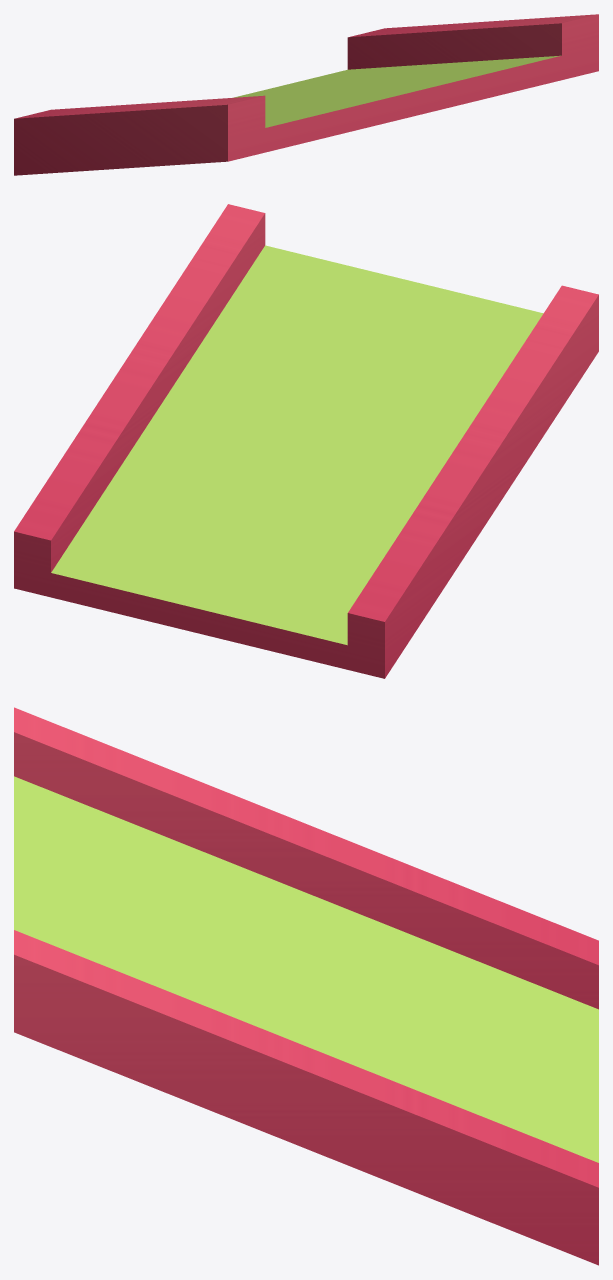
The model's file is ramp-c.gltf.
3 views of the same model, one above another, from view 1: azimuth 30°, elevation 25°; view 2: azimuth 150°, elevation 25°; view 3: azimuth 270°, elevation 25° (orthographic). The views are drawn at different scales.
Parts seen in each view (by area): view 1: ramp-c; view 2: ramp-c; view 3: ramp-c.
Part boxes in pixels (x1,y1,x2,y2): ramp-c: (14, 14, 598, 175); ramp-c: (14, 204, 598, 678); ramp-c: (14, 707, 598, 1265).
Bounding box in the file's own units: 0.9999 × 0.5866 × 0.9999.
Materials: 1 (1 with a texture image).
